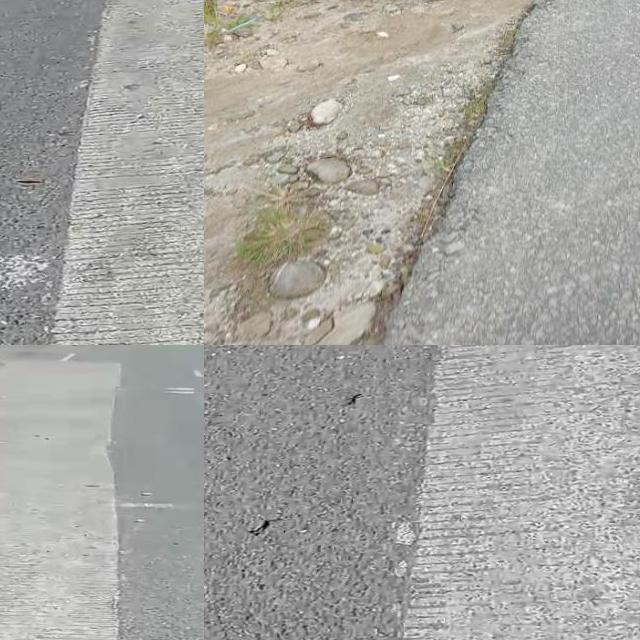Pinggir: (314, 0, 591, 345)
Sambungan: (402, 345, 640, 640), (55, 0, 204, 345), (0, 366, 127, 640)
